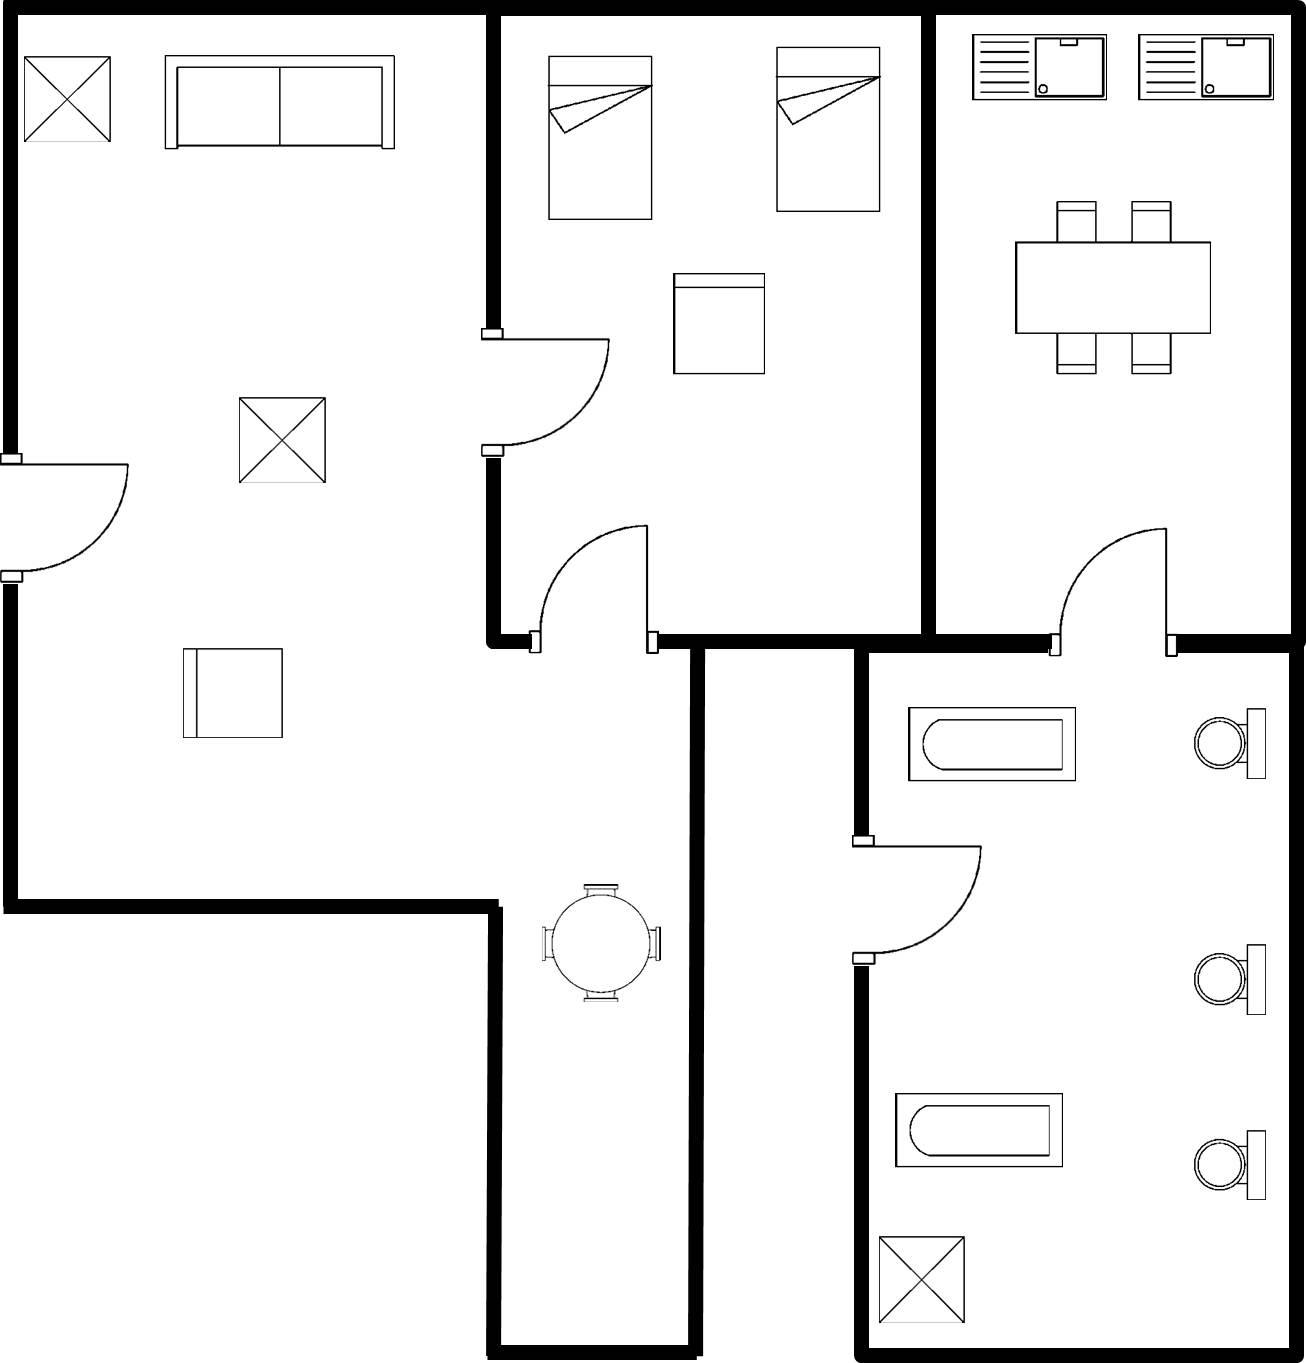bed: (763, 37, 895, 223), (536, 45, 662, 231)
dining_table: (1003, 189, 1227, 381)
round_table: (529, 873, 671, 1013)
sink: (962, 23, 1117, 113), (1130, 26, 1285, 116)
sofa: (155, 44, 403, 163)
toilet: (1182, 1120, 1273, 1208), (1186, 933, 1277, 1021), (1186, 699, 1273, 789)
tub: (898, 697, 1089, 795), (887, 1083, 1078, 1177)
